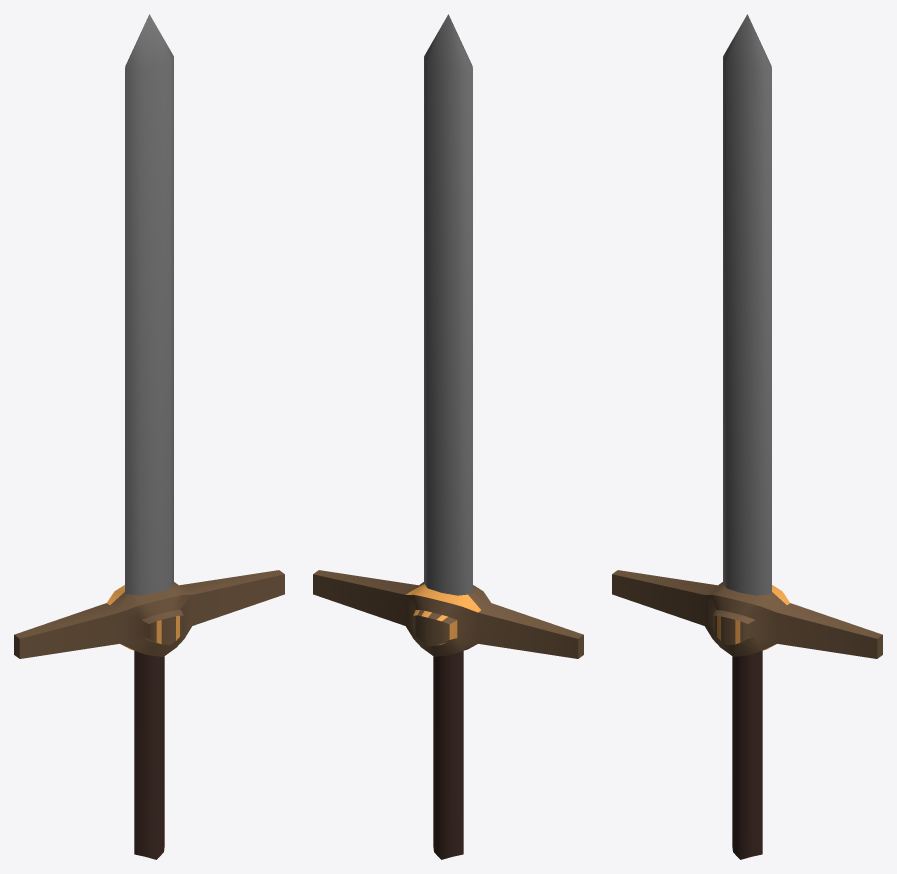
3 renders of one model, left to right at view 1: azimuth 30°, elevation 25°; view 2: azimuth 150°, elevation 25°; view 3: azimuth 330°, elevation 25°, orthographic.
Visible parts, largest first — view 1: Box001; view 2: Box001; view 3: Box001.
Part boxes in pixels (bbox=[...]): Box001: bbox=[14, 14, 284, 859]; Box001: bbox=[313, 14, 583, 859]; Box001: bbox=[612, 14, 882, 859].
Bounding box in the file's own units: 56.19 × 15.14 × 170.
